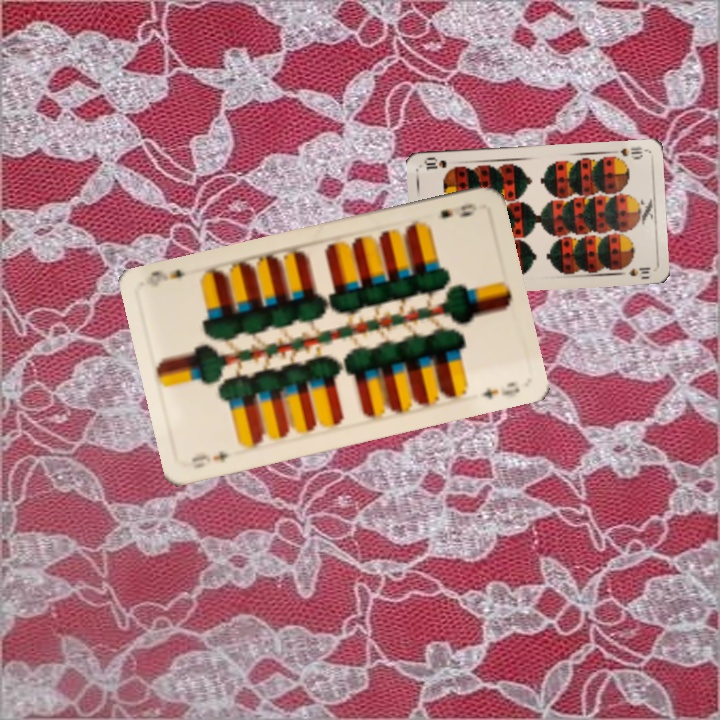E9: (436, 199, 480, 221), (187, 446, 231, 465)
S10: (616, 142, 648, 161)
